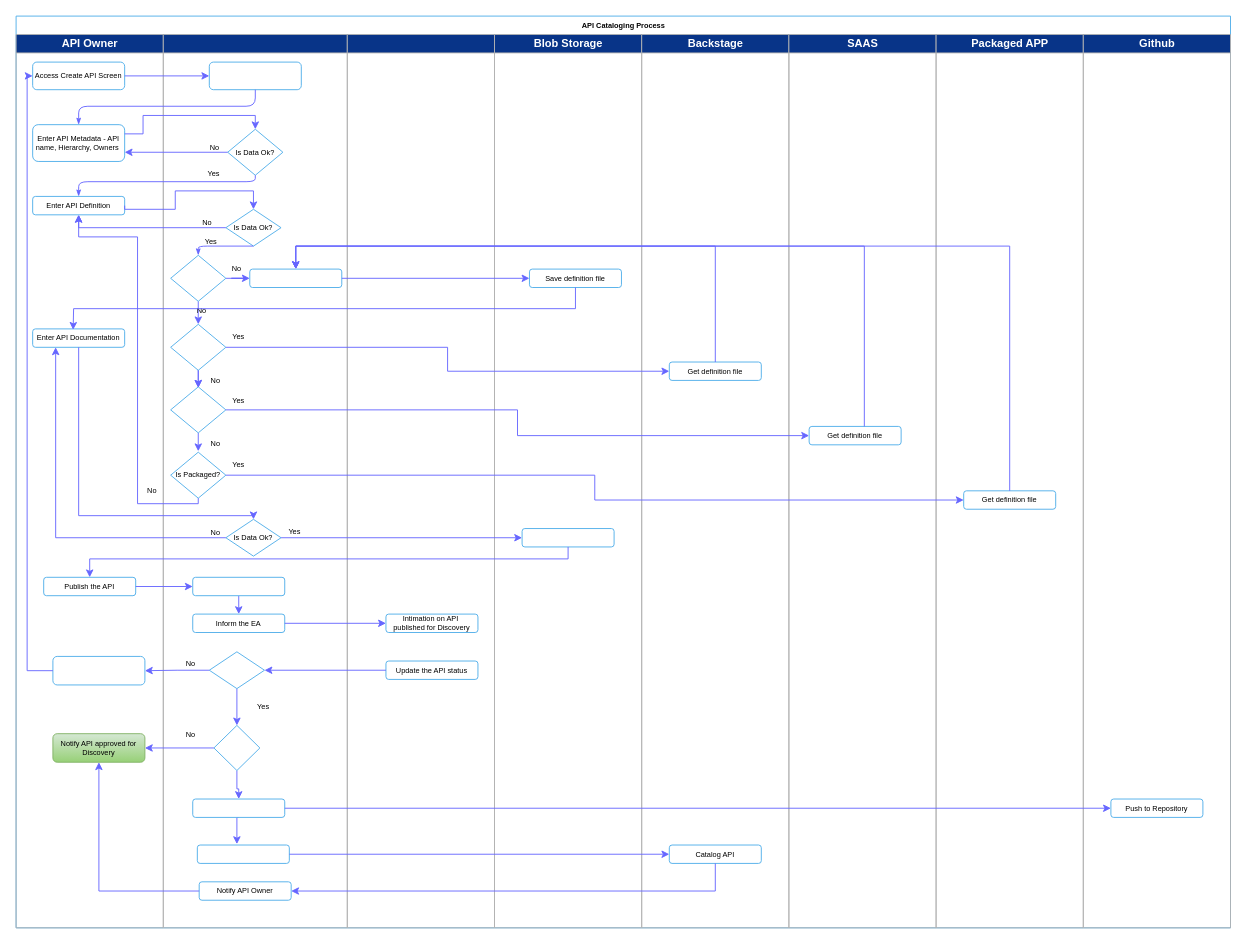
Image size: 1247x944. Some labels were removed from this diagram. The box of each missing label's shape, as (x1, y1, x2, y2) in pixels:
Create API configuration Yaml: (192, 798, 285, 817)
Create definition file: (249, 268, 342, 288)
EA: (346, 34, 494, 928)
Invoke Backstage to Catalog API: (196, 844, 289, 863)
Is a URL?: (170, 254, 226, 301)
Is API Approved: (208, 651, 264, 689)
Is Backstage: (170, 323, 226, 370)
Is External API: (213, 724, 260, 770)
Is SAAS?: (170, 386, 226, 433)
Notification on Rejection and changes needed: (52, 656, 145, 685)
Portal Admin: (162, 34, 347, 928)
Present API creation screen: (208, 61, 301, 90)
Save Documentation: (521, 528, 614, 547)
Save the API to Database: (192, 576, 285, 596)
